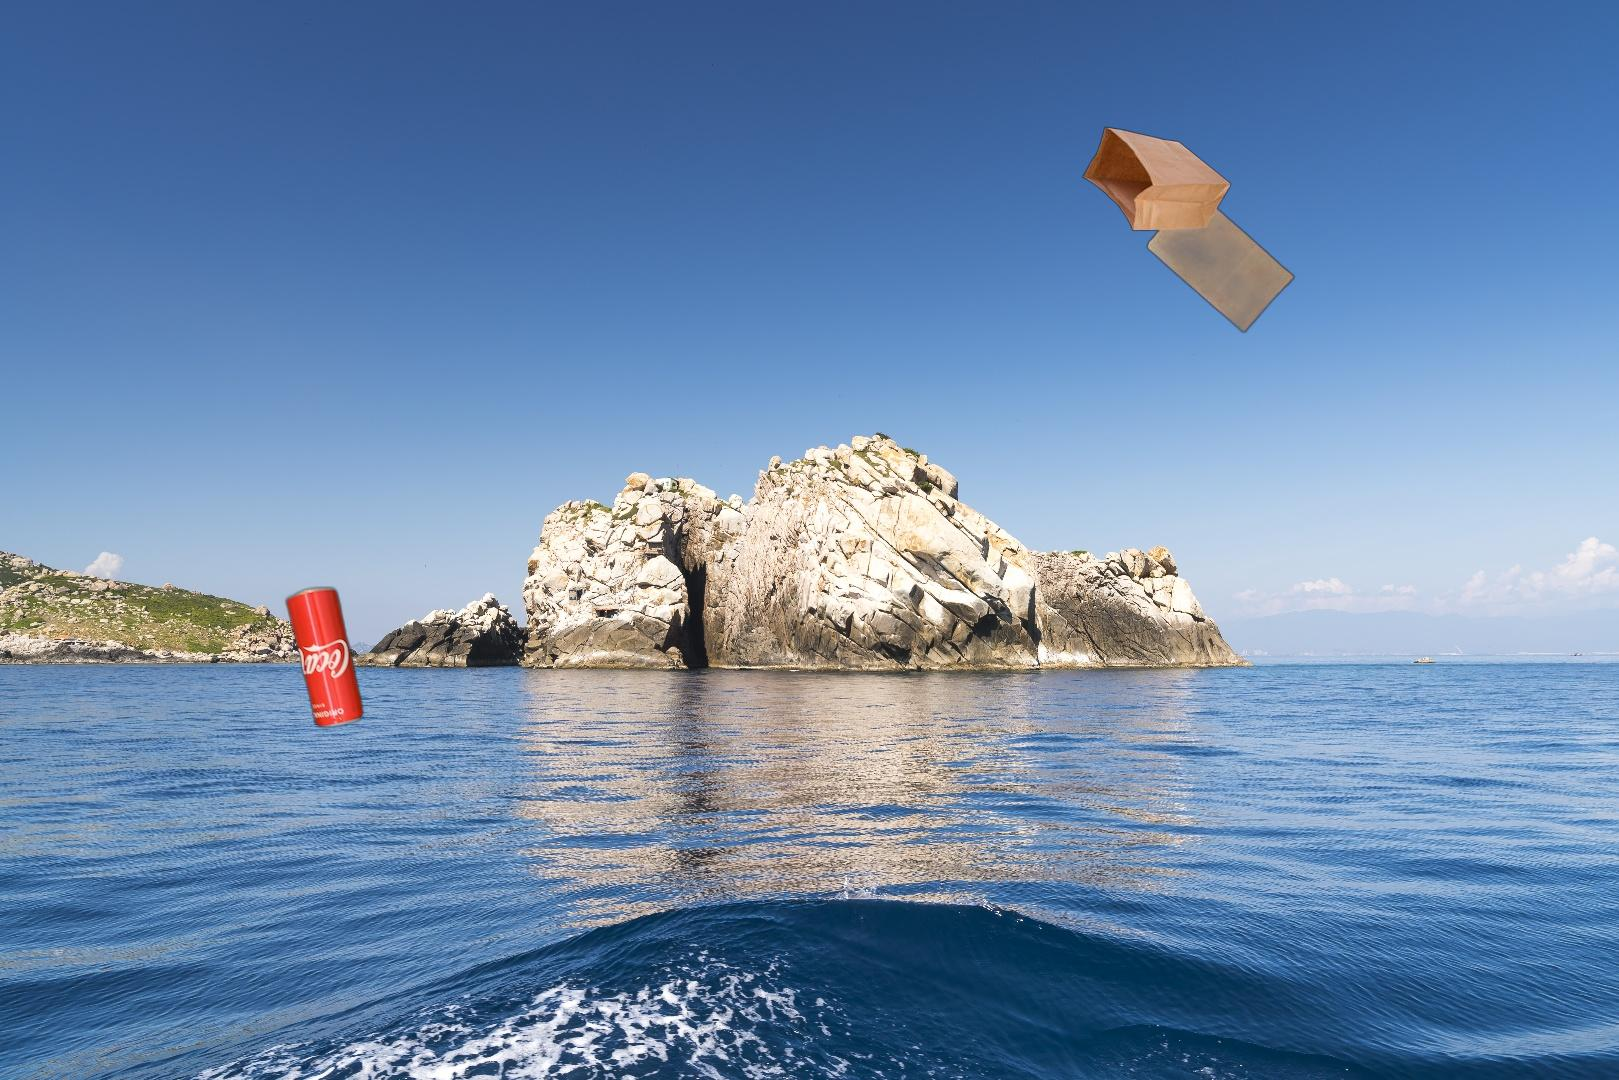metal-cans: (282, 581, 366, 735)
paper-bag: (1081, 127, 1297, 371)
